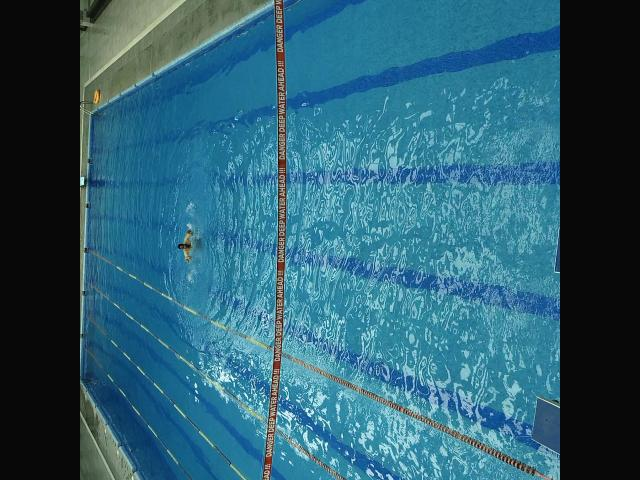drowning: (177, 230, 201, 261)
